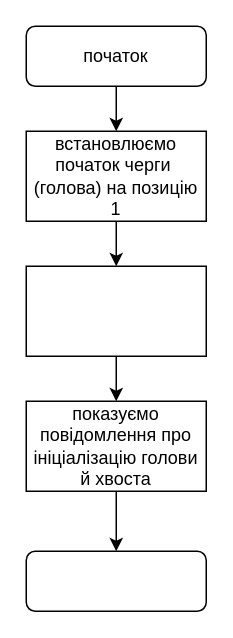
Some shapes in this 233 by 638 pixel diagram are drawn without their labels. The centre of each missing label's shape, as x and y in pixels:
"встановлюємо кінець черги (хвіст) на позицію 0" belongs at pixel 115 310.
"кінець" belongs at pixel 115 580.
